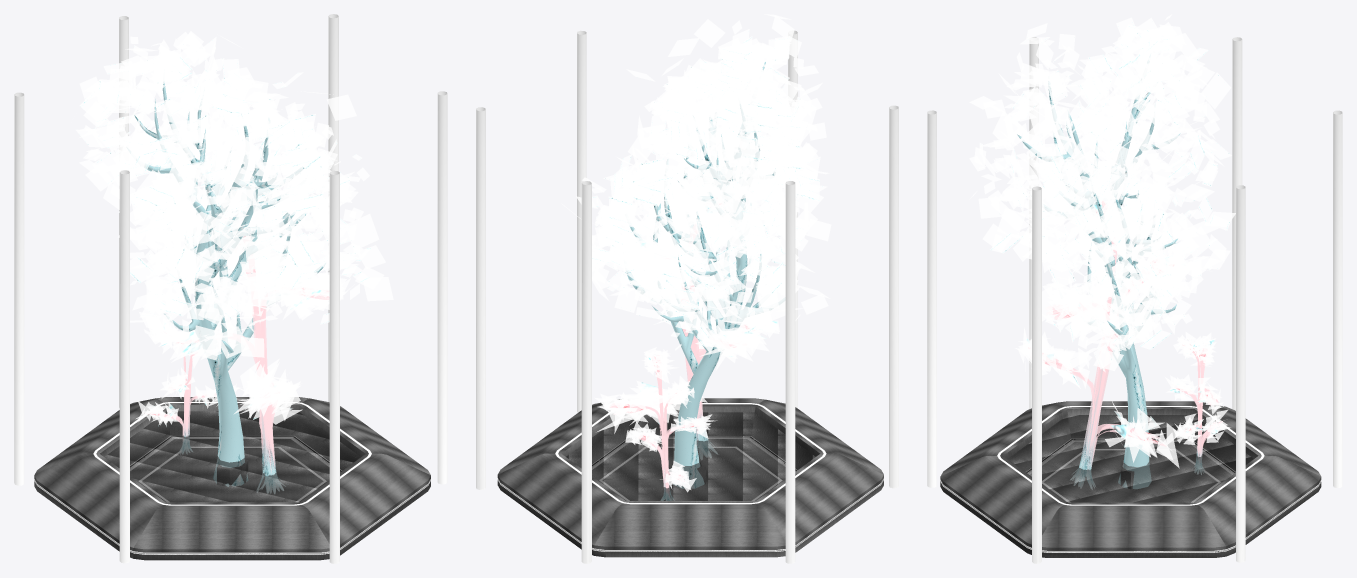
Rendered from propShrine.glb.
3 views of the same model, side by side, from view 1: azimuth 30°, elevation 25°; view 2: azimuth 150°, elevation 25°; view 3: azimuth 270°, elevation 25° (orthographic). The views are drawn at different scales.
Visible parts, largest first — view 1: SM_TEST_Tree.002_M_Foliage_0, propShrine, Water_Plane.002_M_Water_Standard.006_0, SM_TEST_Tree.002_M_Emissive_Engineering.017_0, PF_Centrepiece_Planter (2)_M_Base_DarkGrey.024_0, Point.052_M_Tree_Leaves.003_0, SM_GodRayBeam_01 (1).002_M_GodRay.001_0, SM_GodRayBeam_01 (4).002_M_GodRay.001_0, SM_GodRayBeam_01 (2).002_M_GodRay.001_0, SM_GodRayBeam_01 (3).002_M_GodRay.001_0, PF_Centrepiece_Planter (2)_M_TrimSheet_Generic_V1.022_0, Point.053_M_Tree.003_0 (+4 smaller); view 2: SM_TEST_Tree.002_M_Foliage_0, propShrine, Water_Plane.002_M_Water_Standard.006_0, PF_Centrepiece_Planter (2)_M_Base_DarkGrey.024_0, SM_TEST_Tree.002_M_Emissive_Engineering.017_0, Point.052_M_Tree_Leaves.003_0, SM_GodRayBeam_01 (6).002_M_GodRay.001_0, SM_GodRayBeam_01 (1).002_M_GodRay.001_0, SM_GodRayBeam_01 (2).002_M_GodRay.001_0, SM_GodRayBeam_01 (5).002_M_GodRay.001_0, Point.054_M_Tree_Leaves.003_0, PF_Centrepiece_Planter (2)_M_TrimSheet_Generic_V1.022_0 (+4 smaller); view 3: SM_TEST_Tree.002_M_Foliage_0, propShrine, Water_Plane.002_M_Water_Standard.006_0, PF_Centrepiece_Planter (2)_M_Base_DarkGrey.024_0, Point.052_M_Tree_Leaves.003_0, SM_TEST_Tree.002_M_Emissive_Engineering.017_0, SM_GodRayBeam_01 (3).002_M_GodRay.001_0, SM_GodRayBeam_01 (5).002_M_GodRay.001_0, SM_GodRayBeam_01 (4).002_M_GodRay.001_0, SM_GodRayBeam_01 (6).002_M_GodRay.001_0, Point.054_M_Tree_Leaves.003_0, Point.053_M_Tree.003_0 (+4 smaller).
Part boxes in pixels (bbox=[...]): SM_TEST_Tree.002_M_Foliage_0: bbox=[76, 31, 393, 360]; propShrine: bbox=[34, 397, 430, 552]; Water_Plane.002_M_Water_Standard.006_0: bbox=[104, 411, 360, 502]; SM_TEST_Tree.002_M_Emissive_Engineering.017_0: bbox=[127, 82, 325, 486]; PF_Centrepiece_Planter (2)_M_Base_DarkGrey.024_0: bbox=[34, 448, 430, 560]; Point.052_M_Tree_Leaves.003_0: bbox=[161, 199, 354, 424]; SM_GodRayBeam_01 (1).002_M_GodRay.001_0: bbox=[14, 92, 24, 485]; SM_GodRayBeam_01 (4).002_M_GodRay.001_0: bbox=[437, 91, 447, 484]; SM_GodRayBeam_01 (2).002_M_GodRay.001_0: bbox=[119, 170, 129, 563]; SM_GodRayBeam_01 (3).002_M_GodRay.001_0: bbox=[329, 170, 339, 563]; PF_Centrepiece_Planter (2)_M_TrimSheet_Generic_V1.022_0: bbox=[34, 402, 430, 554]; Point.053_M_Tree.003_0: bbox=[176, 218, 329, 493]; SM_TEST_Tree.002_M_Foliage_0: bbox=[561, 14, 831, 350]; propShrine: bbox=[497, 398, 883, 549]; Water_Plane.002_M_Water_Standard.006_0: bbox=[566, 412, 815, 500]; PF_Centrepiece_Planter (2)_M_Base_DarkGrey.024_0: bbox=[497, 448, 883, 557]; SM_TEST_Tree.002_M_Emissive_Engineering.017_0: bbox=[626, 62, 784, 488]; Point.052_M_Tree_Leaves.003_0: bbox=[594, 178, 779, 433]; SM_GodRayBeam_01 (6).002_M_GodRay.001_0: bbox=[581, 181, 591, 563]; SM_GodRayBeam_01 (1).002_M_GodRay.001_0: bbox=[785, 181, 795, 563]; SM_GodRayBeam_01 (2).002_M_GodRay.001_0: bbox=[889, 105, 898, 488]; SM_GodRayBeam_01 (5).002_M_GodRay.001_0: bbox=[476, 107, 485, 489]; Point.054_M_Tree_Leaves.003_0: bbox=[601, 347, 717, 492]; PF_Centrepiece_Planter (2)_M_TrimSheet_Generic_V1.022_0: bbox=[497, 403, 883, 551]; SM_TEST_Tree.002_M_Foliage_0: bbox=[969, 14, 1235, 372]; propShrine: bbox=[940, 401, 1321, 550]; Water_Plane.002_M_Water_Standard.006_0: bbox=[1008, 415, 1253, 502]; PF_Centrepiece_Planter (2)_M_Base_DarkGrey.024_0: bbox=[940, 450, 1321, 557]; Point.052_M_Tree_Leaves.003_0: bbox=[1015, 187, 1189, 468]; SM_TEST_Tree.002_M_Emissive_Engineering.017_0: bbox=[1017, 55, 1180, 488]; SM_GodRayBeam_01 (3).002_M_GodRay.001_0: bbox=[927, 110, 936, 487]; SM_GodRayBeam_01 (5).002_M_GodRay.001_0: bbox=[1236, 185, 1245, 562]; SM_GodRayBeam_01 (4).002_M_GodRay.001_0: bbox=[1032, 186, 1041, 563]; SM_GodRayBeam_01 (6).002_M_GodRay.001_0: bbox=[1333, 110, 1342, 487]; Point.054_M_Tree_Leaves.003_0: bbox=[1165, 332, 1230, 444]; Point.053_M_Tree.003_0: bbox=[1028, 200, 1174, 489].
Bounding box in the file's own units: 10.58 × 14.56 × 12.09.
Materials: 10 (9 with a texture image).
